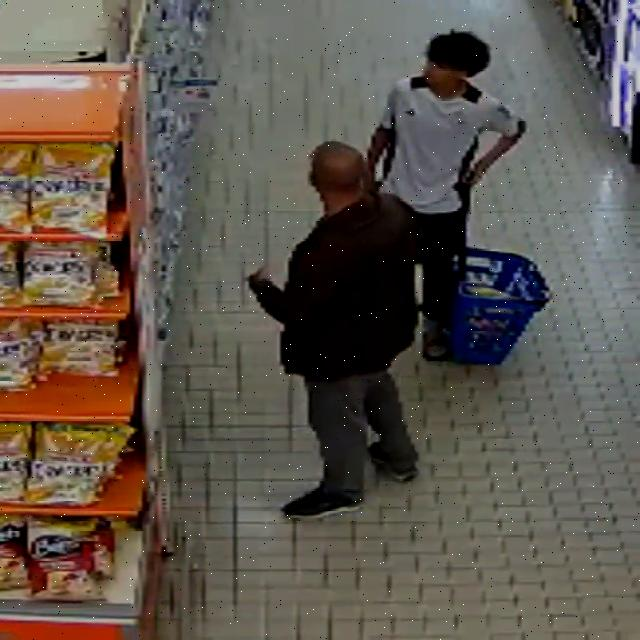hands: (465, 159, 489, 186), (248, 267, 270, 286)
person: (248, 141, 424, 518), (367, 30, 525, 359)
